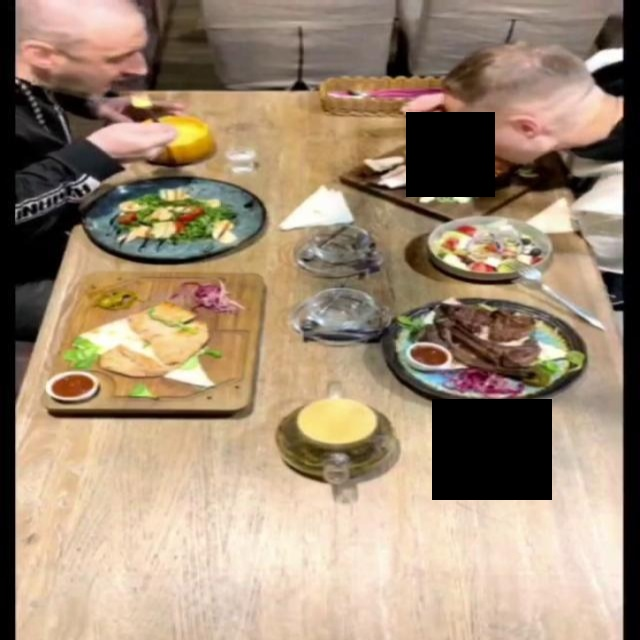meat: (43, 275, 264, 416), (378, 295, 589, 405)
salad: (75, 174, 262, 259), (427, 214, 553, 280)
soup: (337, 128, 566, 220), (137, 115, 215, 162)
tea: (272, 394, 397, 480)
